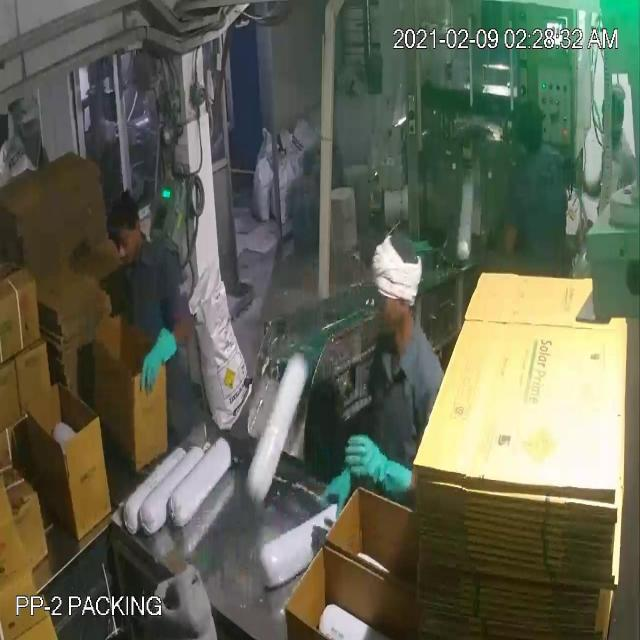Gloves: (39, 70, 381, 490)
